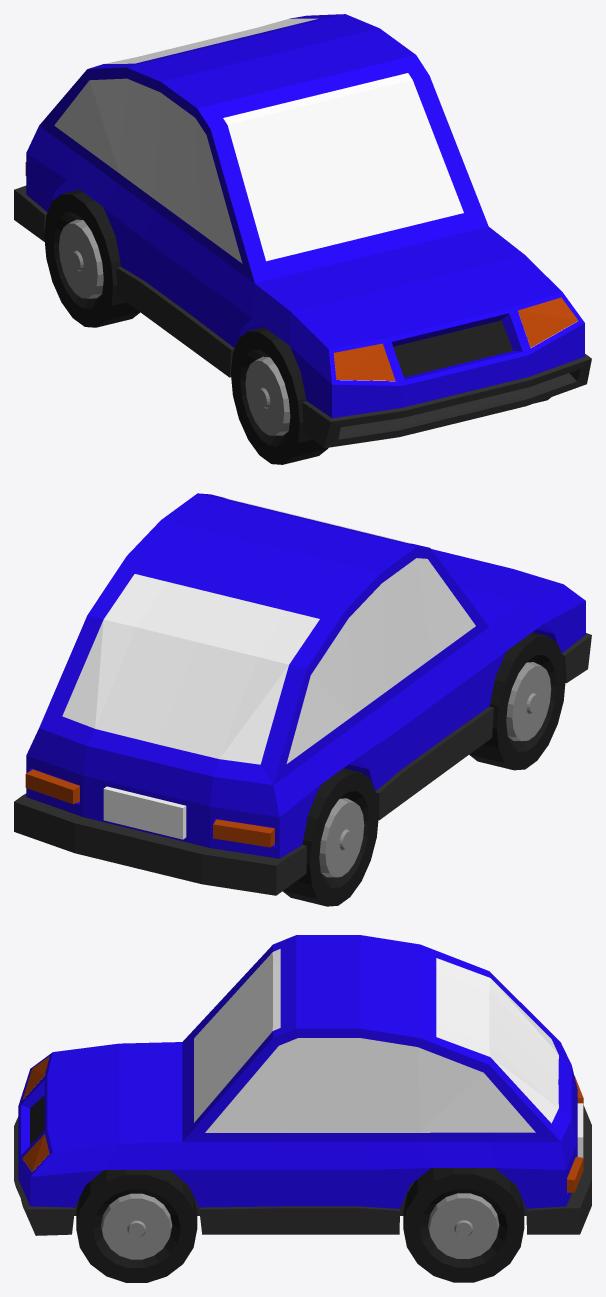
Rendered from BlueCar.FBX.
3 views of the same model, one above another, from view 1: azimuth 30°, elevation 25°; view 2: azimuth 150°, elevation 25°; view 3: azimuth 270°, elevation 25° (orthographic). The views are drawn at different scales.
Visible parts, largest first — view 1: blue, Wheels, RightBlinker, LeftBlinker; view 2: blue, Wheels, RightBlinker, LeftBlinker; view 3: blue, Wheels, LeftBlinker, RightBlinker.
Part boxes in pixels (x1=…): blue: x1=14, y1=14, x2=591, y2=448; Wheels: x1=44, y1=189, x2=550, y2=464; RightBlinker: x1=25, y1=162, x2=395, y2=380; LeftBlinker: x1=518, y1=297, x2=578, y2=347; blue: x1=14, y1=493, x2=591, y2=895; Wheels: x1=282, y1=632, x2=565, y2=906; RightBlinker: x1=213, y1=819, x2=274, y2=847; LeftBlinker: x1=25, y1=769, x2=79, y2=804; blue: x1=14, y1=935, x2=591, y2=1235; Wheels: x1=76, y1=1168, x2=524, y2=1282; LeftBlinker: x1=22, y1=1134, x2=583, y2=1192; RightBlinker: x1=22, y1=1056, x2=583, y2=1109.
Bounding box in the file's own units: 161 × 158 × 339.
Materials: 2 (1 with a texture image).
